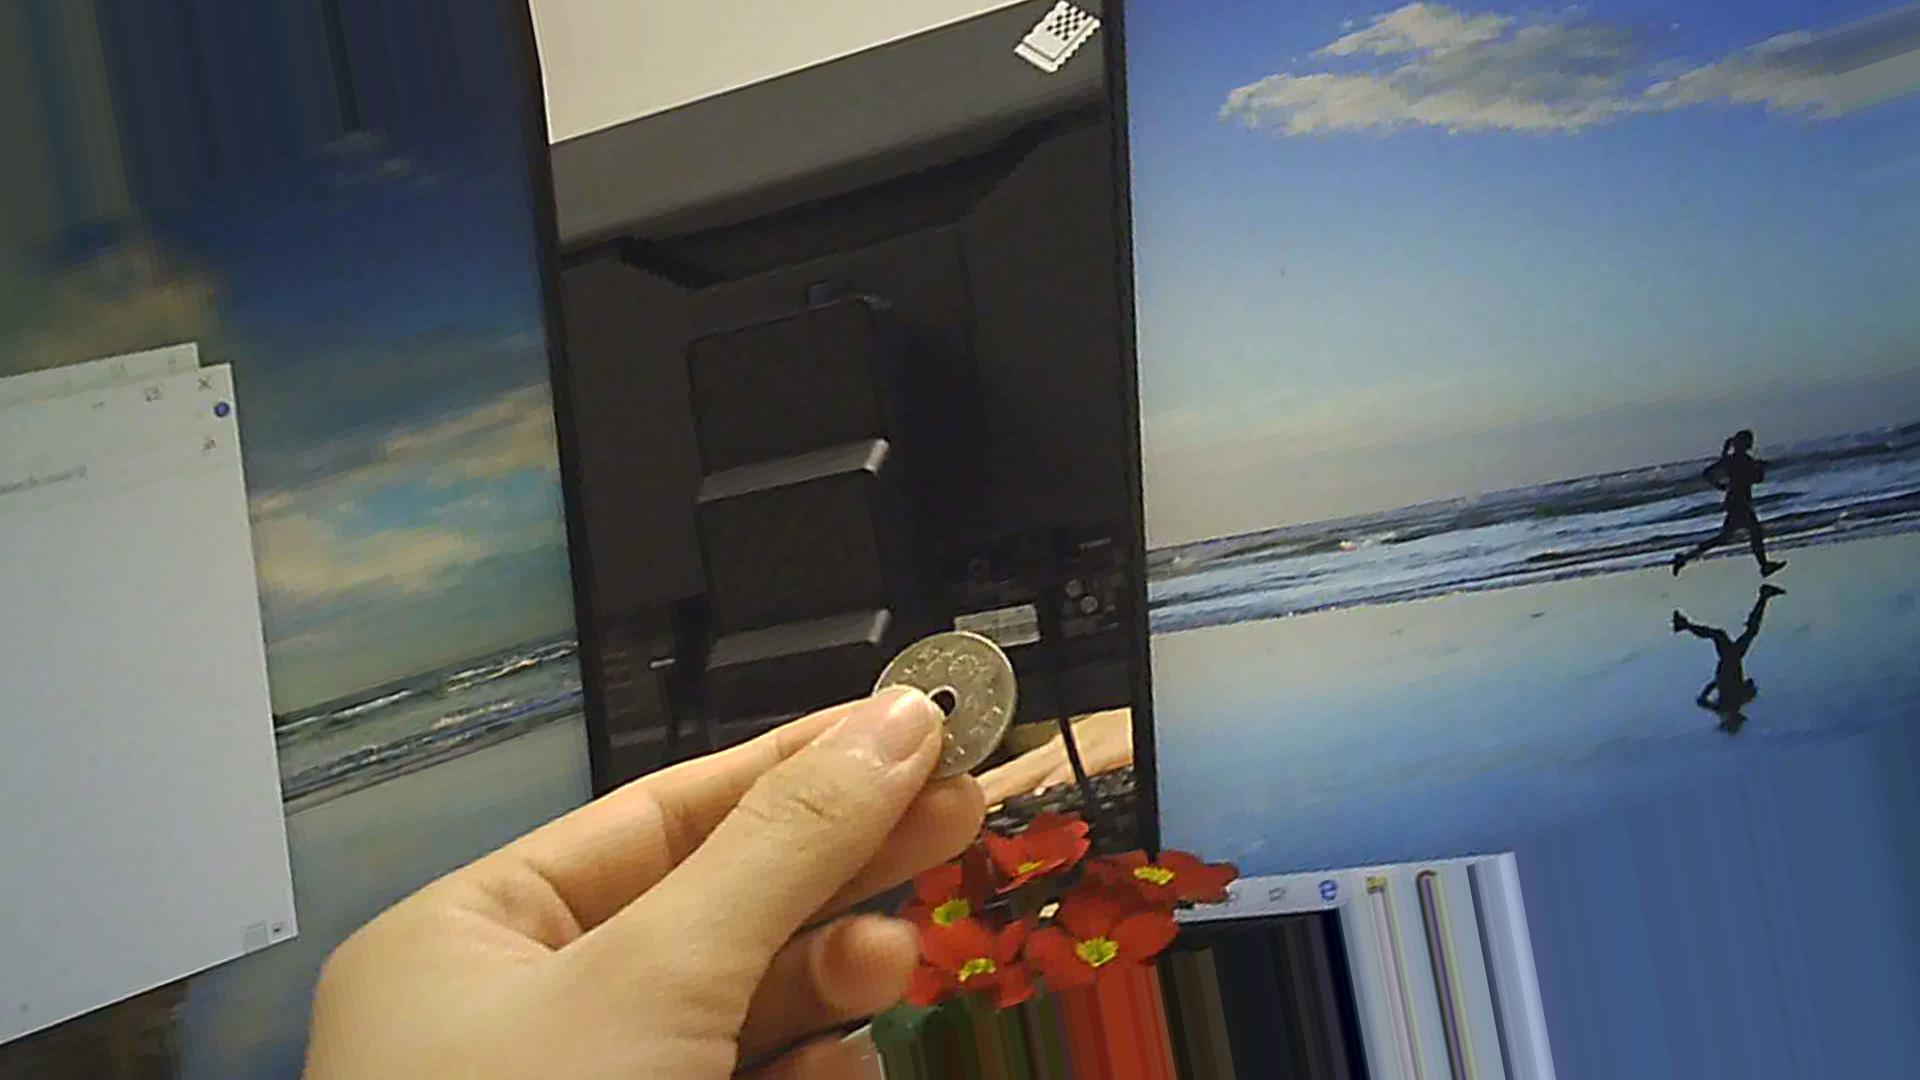50 Yen: (861, 618, 1010, 794)
